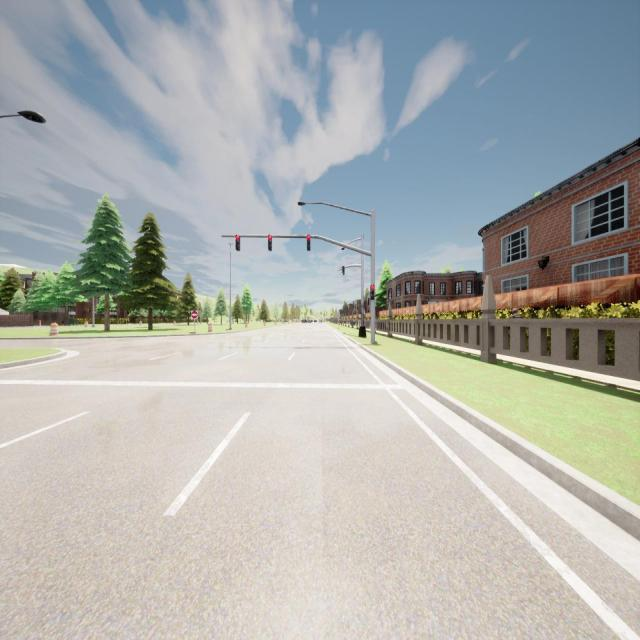Traffic_Signs: (191, 310, 198, 320), (336, 312, 340, 318)
Vehicle: (301, 319, 306, 324), (318, 319, 323, 324), (307, 319, 311, 324), (313, 319, 317, 323)
traffic_light: (235, 235, 241, 251), (370, 285, 375, 301), (306, 234, 310, 251), (268, 236, 272, 252), (341, 265, 345, 277)
